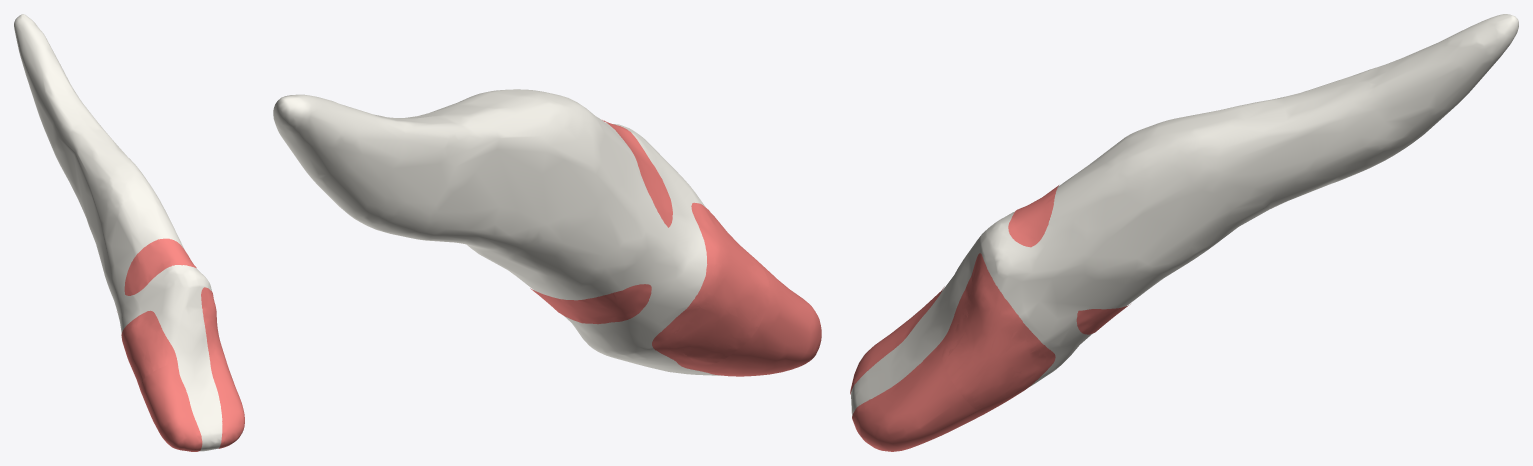
Rendered from tooth_41_FMA57142.glb.
The picture shows the model from 3 angles, left to right: view 1: azimuth 30°, elevation 25°; view 2: azimuth 150°, elevation 25°; view 3: azimuth 270°, elevation 25°; orthographic projection. The views are drawn at different scales.
Parts seen in each view (by area): view 1: tooth_41, class4_distal, class4_mesial, class5_lingual, class3_distal, class3_mesial; view 2: tooth_41, class4_distal, class3_distal, class5_facial, class5_lingual; view 3: tooth_41, class4_mesial, class3_mesial, class5_lingual, class4_distal, class5_facial.
Boxes of the visible parts, left/top/right/bottom form: tooth_41: left=14, top=14, right=222, bottom=451; class4_distal: left=121, top=310, right=202, bottom=451; class4_mesial: left=201, top=287, right=244, bottom=448; class5_lingual: left=124, top=238, right=196, bottom=295; class3_distal: left=122, top=317, right=169, bottom=389; class3_mesial: left=205, top=293, right=227, bottom=364; tooth_41: left=273, top=89, right=720, bottom=375; class4_distal: left=652, top=202, right=821, bottom=376; class3_distal: left=665, top=214, right=770, bottom=364; class5_facial: left=530, top=284, right=651, bottom=324; class5_lingual: left=602, top=120, right=672, bottom=227; tooth_41: left=851, top=14, right=1518, bottom=415; class4_mesial: left=852, top=253, right=1055, bottom=451; class3_mesial: left=942, top=266, right=1046, bottom=412; class5_lingual: left=1008, top=185, right=1058, bottom=247; class4_distal: left=850, top=286, right=944, bottom=394; class5_facial: left=1076, top=304, right=1130, bottom=334.
Size of the model in its own units: 5.67 by 17.26 by 24.1.
